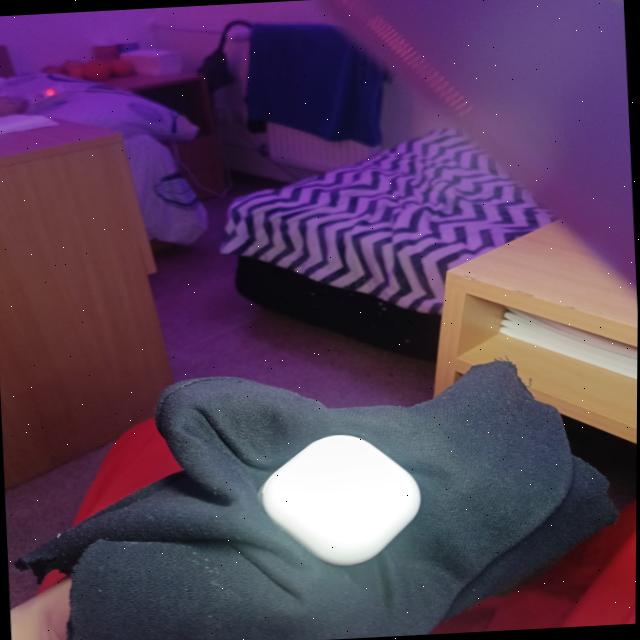headphones: (262, 435, 421, 565)
